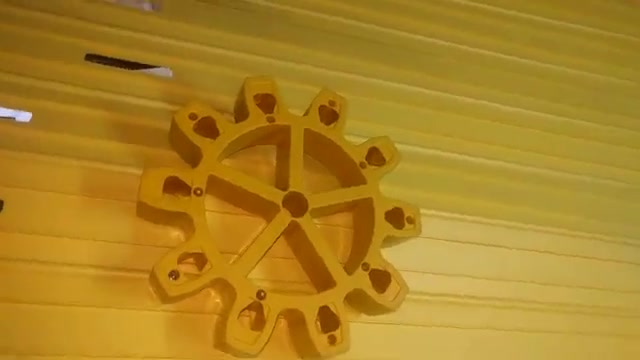gear: (129, 51, 436, 360)
